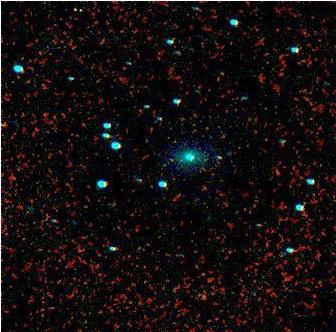star: (61, 0, 91, 23)
